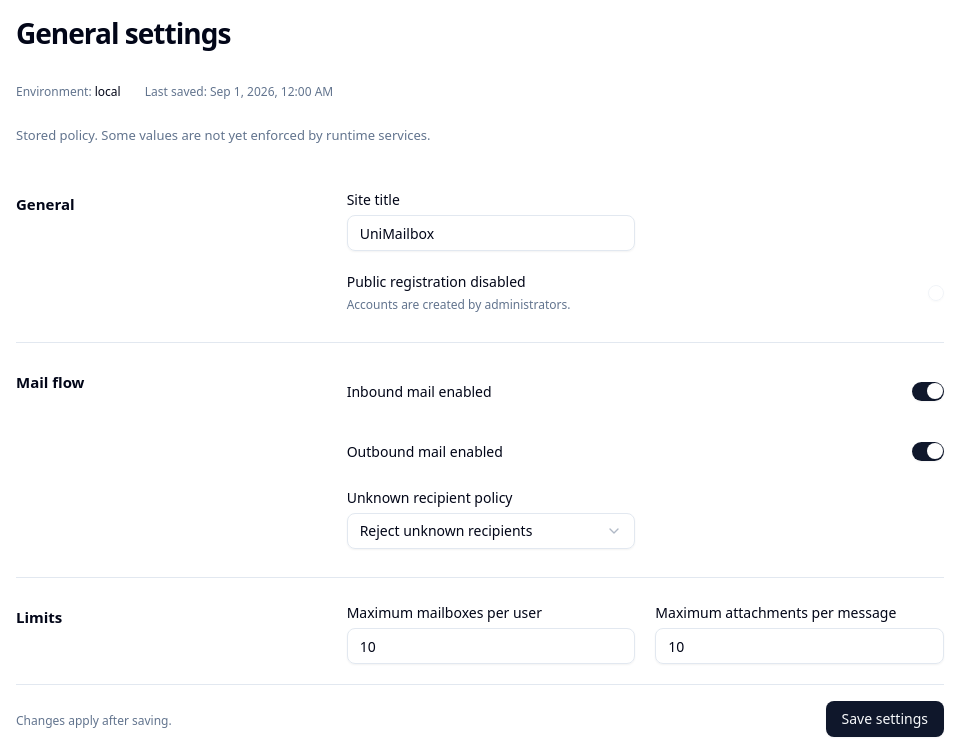
SettingsPage (CAP-069) › R-SETTINGS-007 renders, edits, and saves settings with a success state
Replace the text in the field labelled "Site title" with "Operations" at (491, 233), box [347,215,635,251]
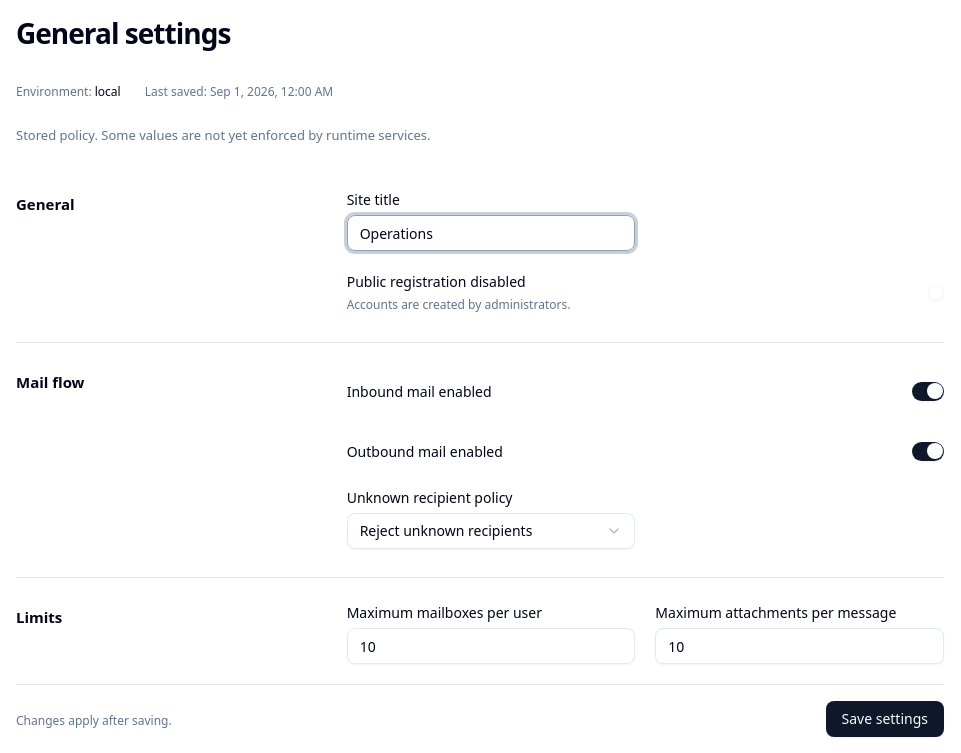
Click the button "Save settings" at (885, 719), box [826,701,944,737]
(page scrolled)
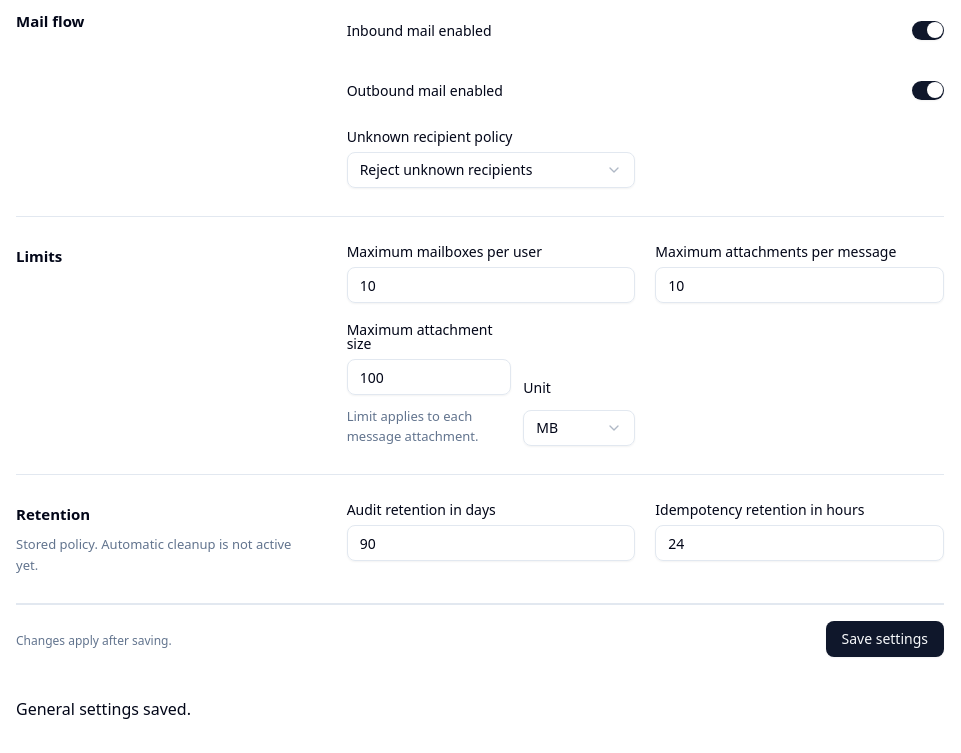
expect the message "General settings saved." is shown: met, box [16,698,191,720]
